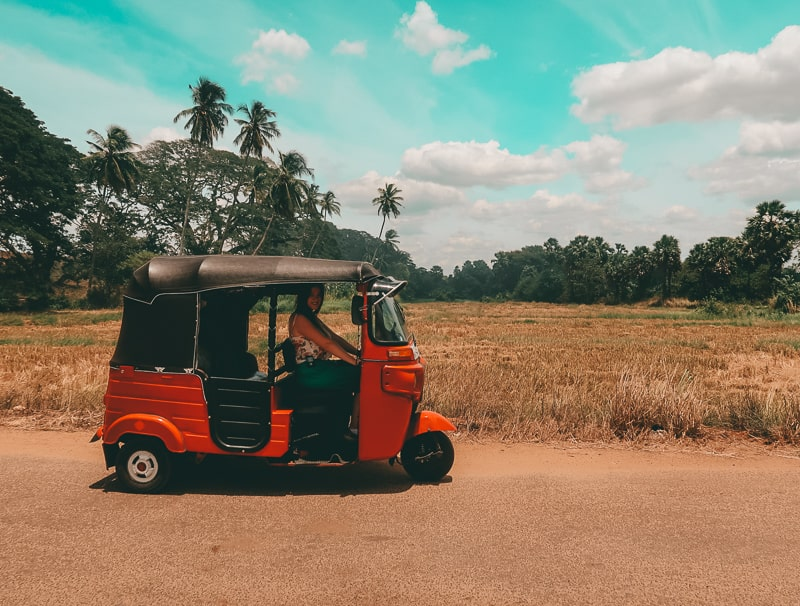tuk tuk: (91, 254, 462, 493)
